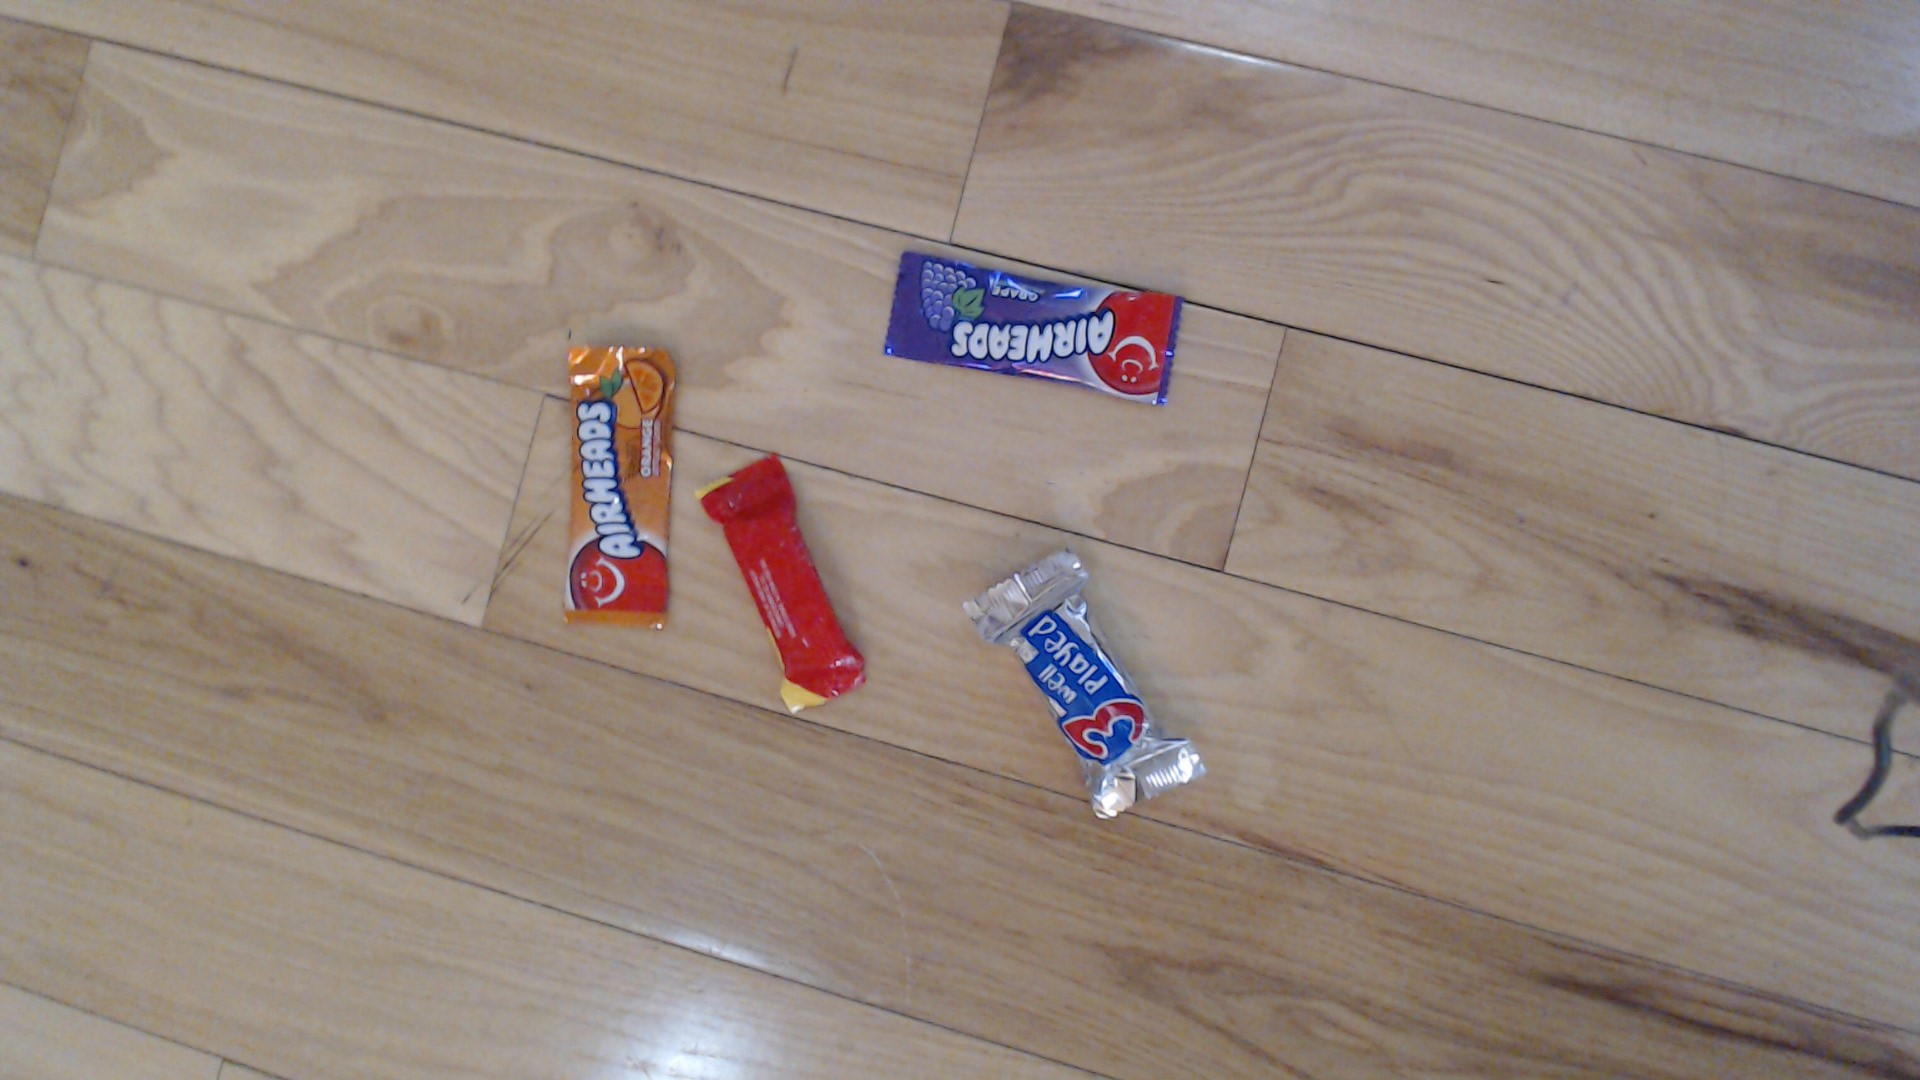airheads: (877, 203, 1212, 415), (554, 327, 684, 649)
skittles: (679, 450, 857, 695)
three_musketeers: (947, 530, 1226, 812)
